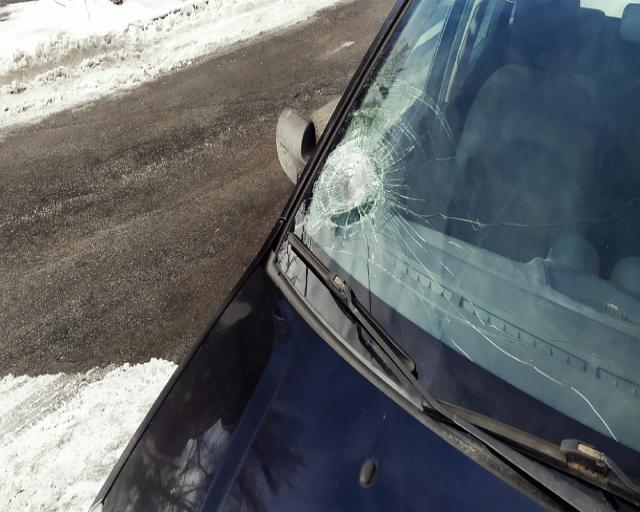glass shatter: (295, 0, 640, 486)
